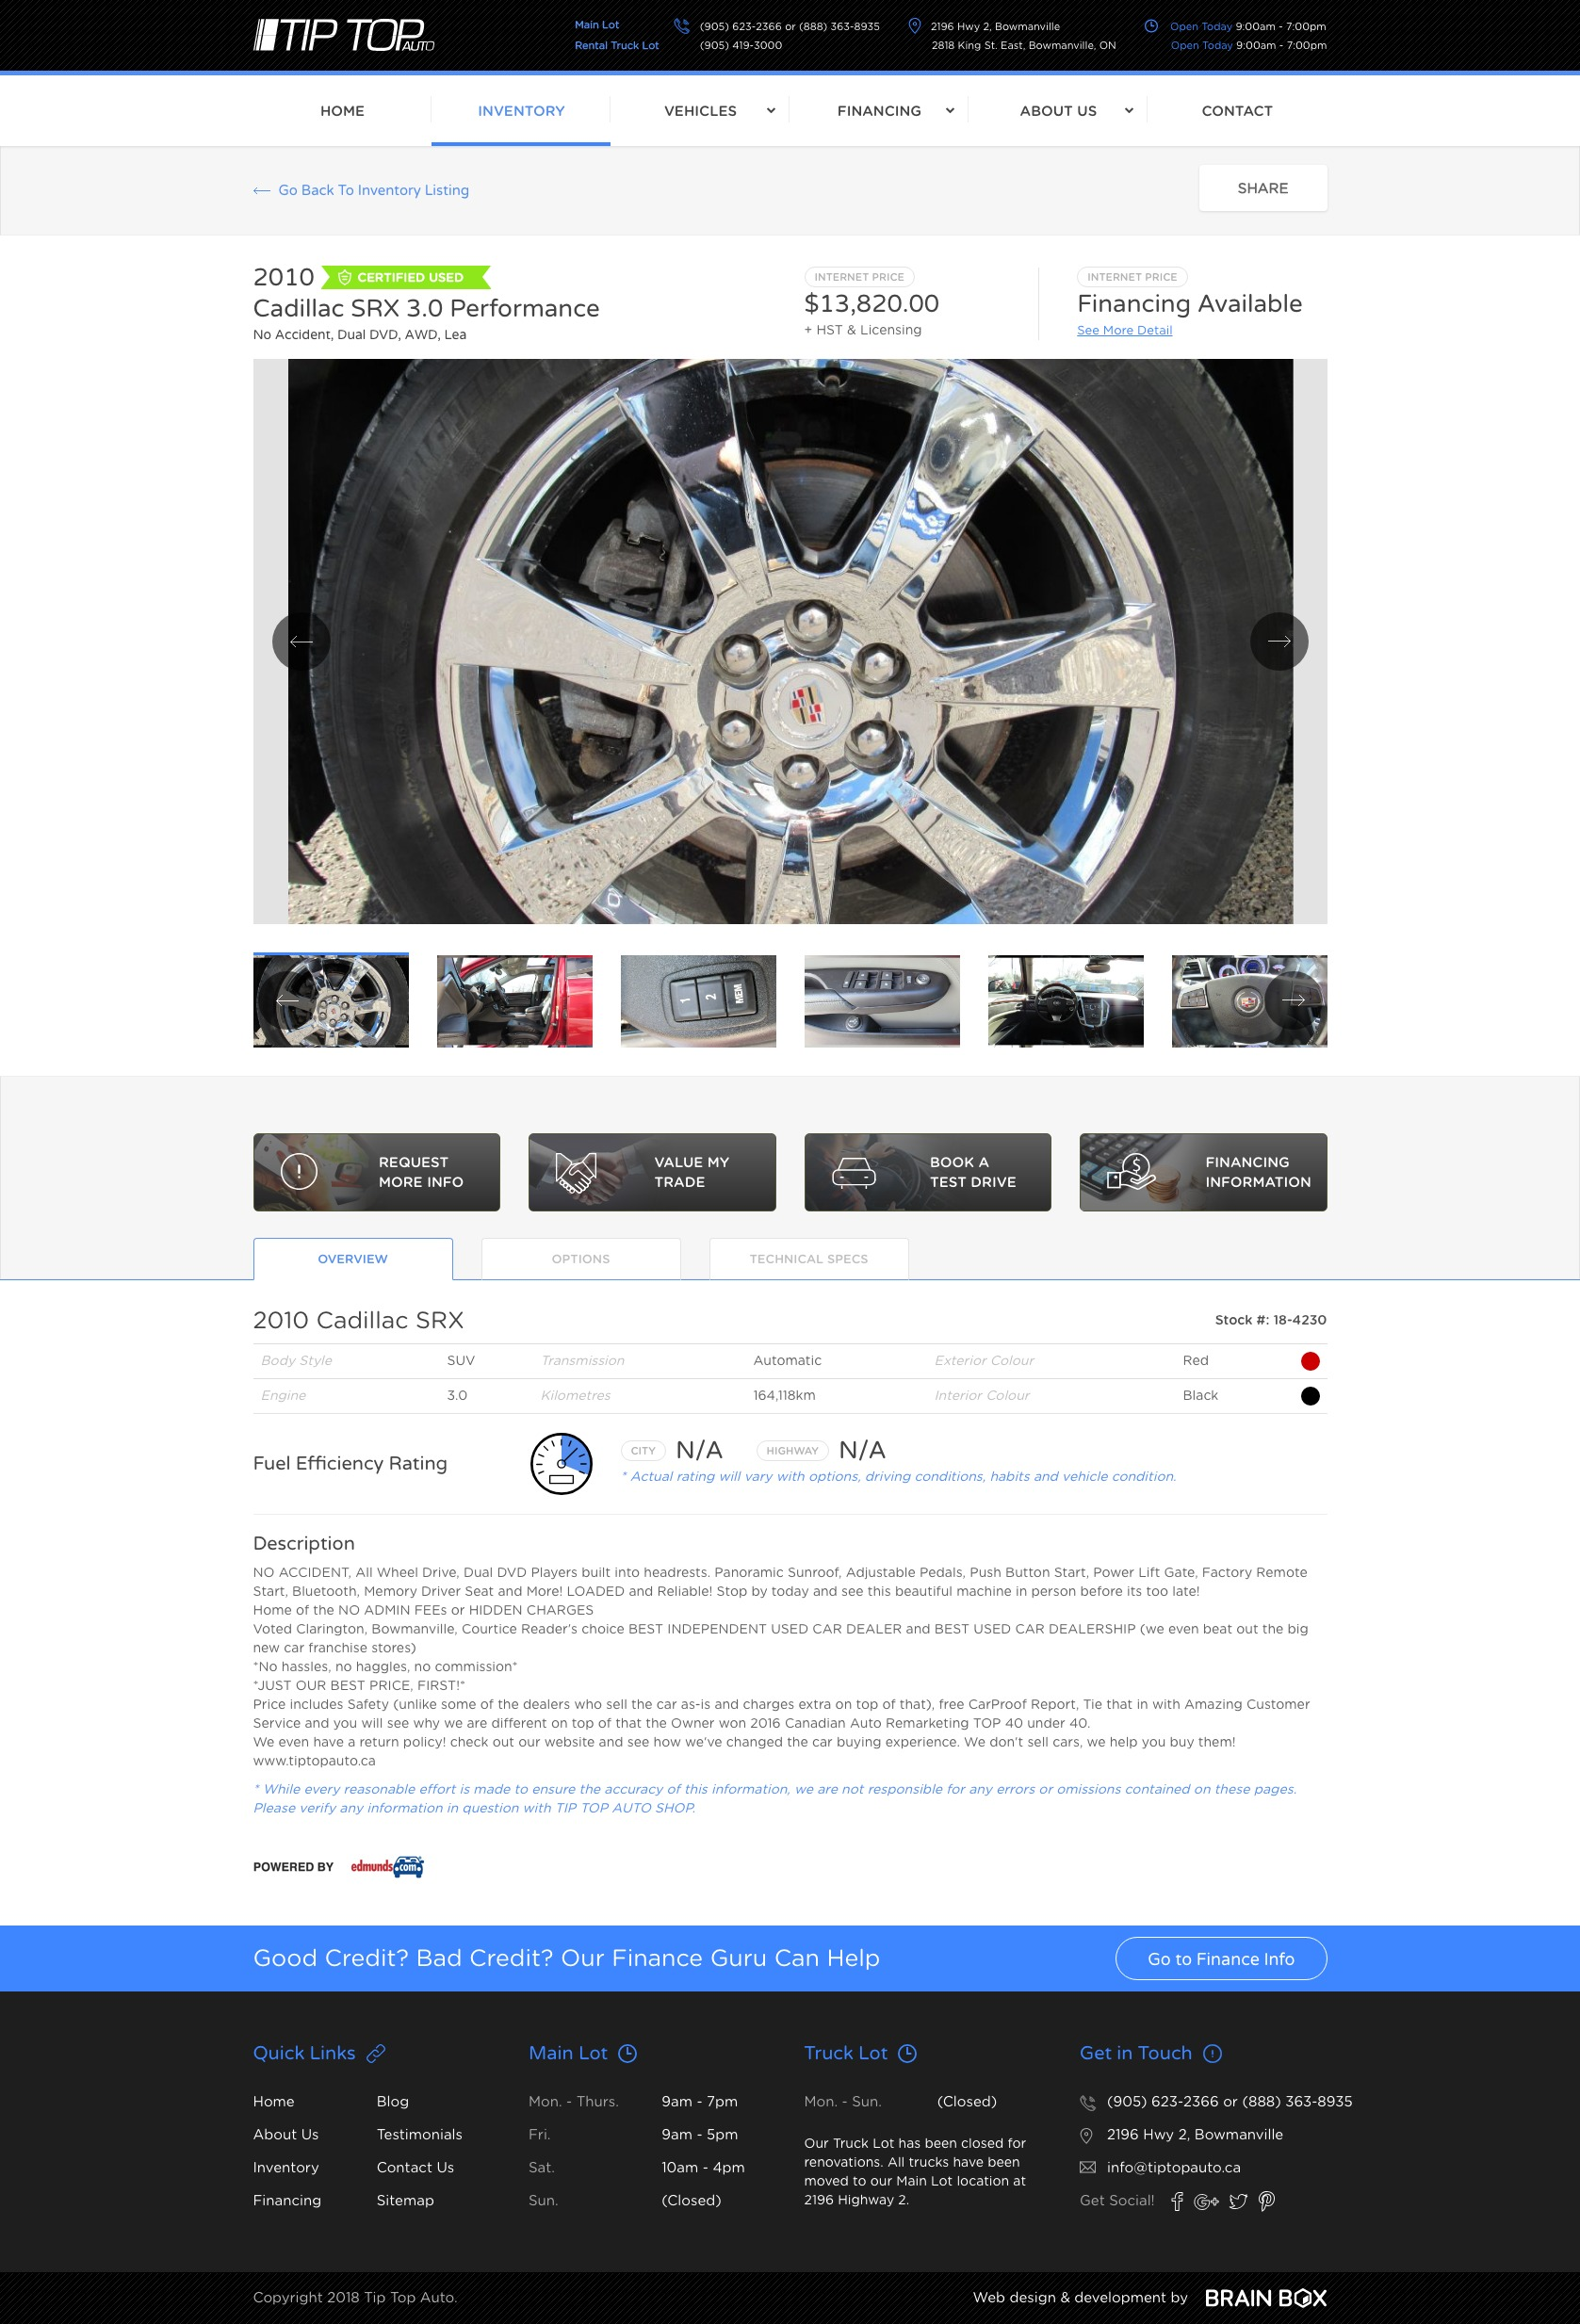car: (1248, 612, 1310, 672)
